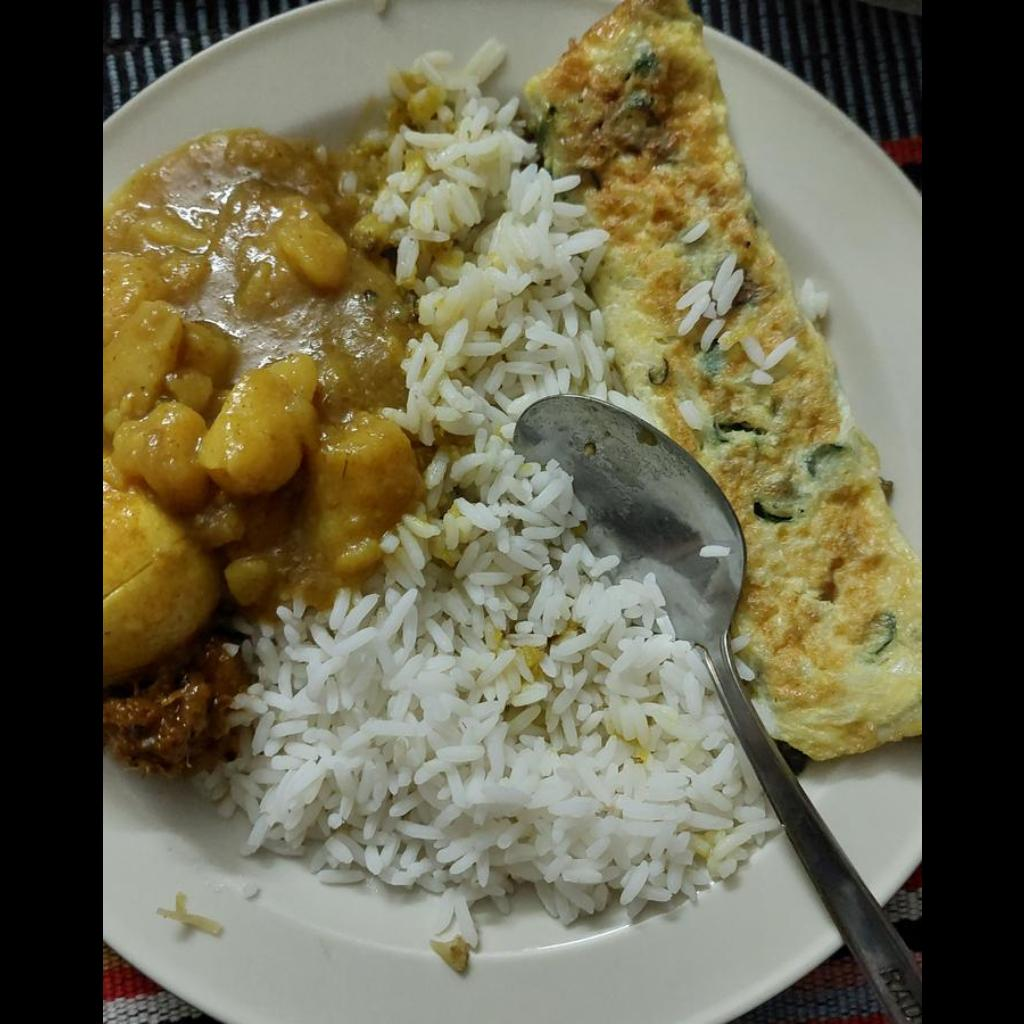egg-poached: (530, 0, 920, 762)
rice: (222, 46, 773, 945)
vegetable: (102, 135, 421, 695)
